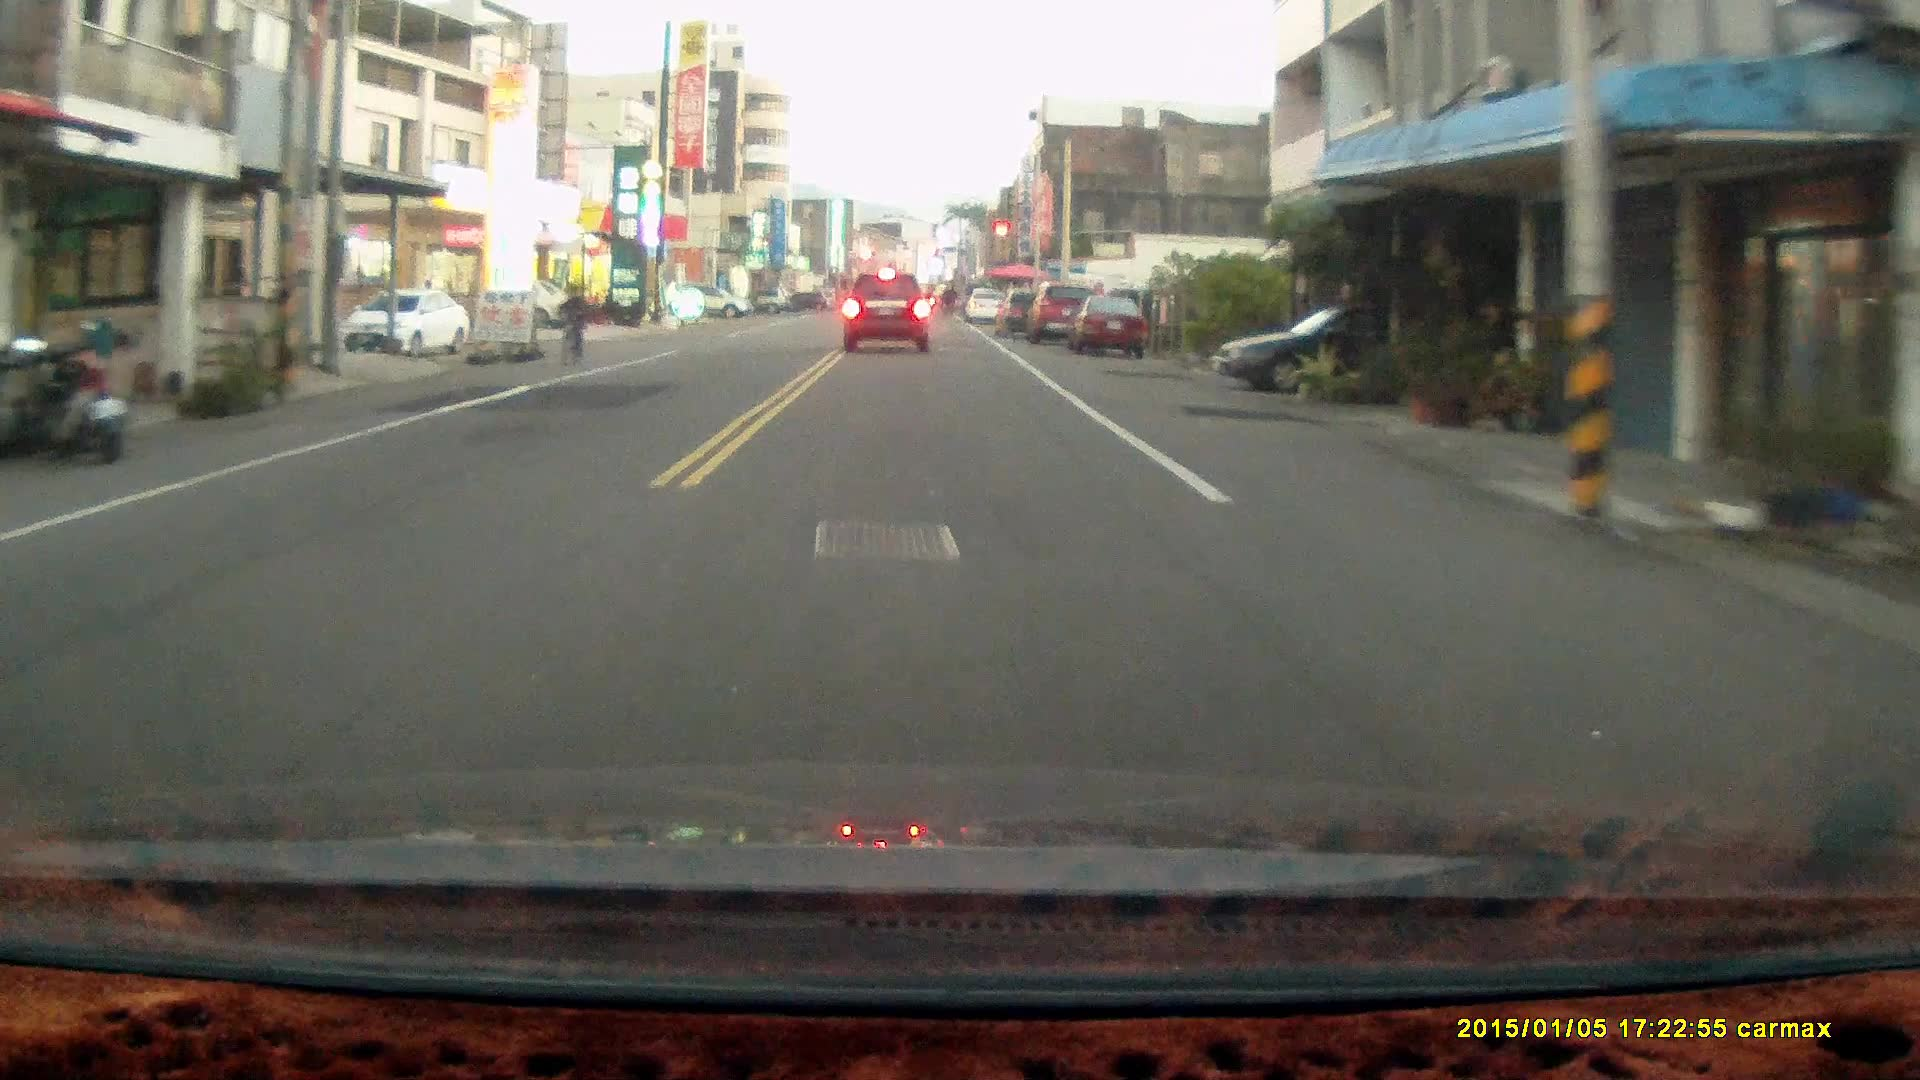rider: (557, 285, 585, 369)
vehicle: (1211, 319, 1437, 395), (345, 292, 469, 361), (840, 276, 936, 361), (465, 282, 588, 338), (1067, 297, 1149, 363), (666, 284, 751, 323)
